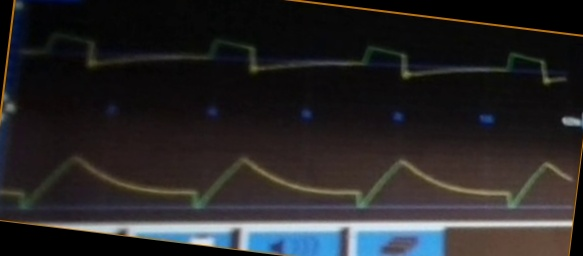Flow: (26, 28, 561, 99)
Leakage Volume: (2, 144, 568, 215)
